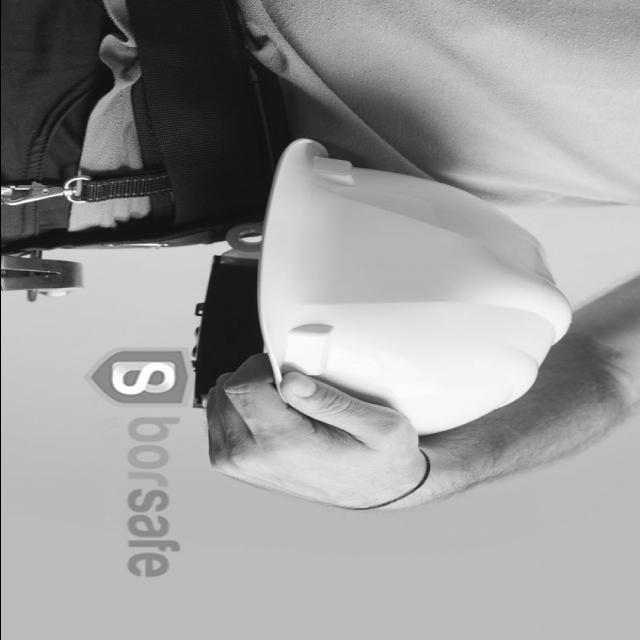safety_helmet: (254, 136, 571, 437)
